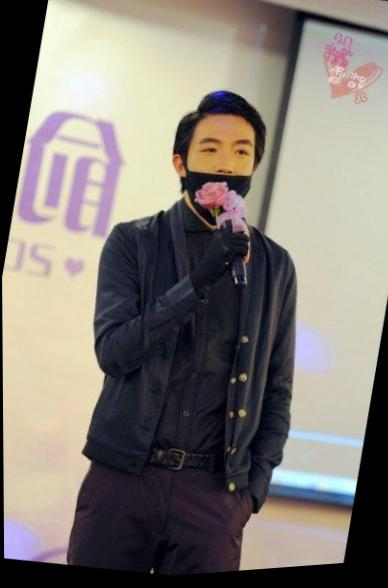WRONG: (170, 128, 266, 230)
